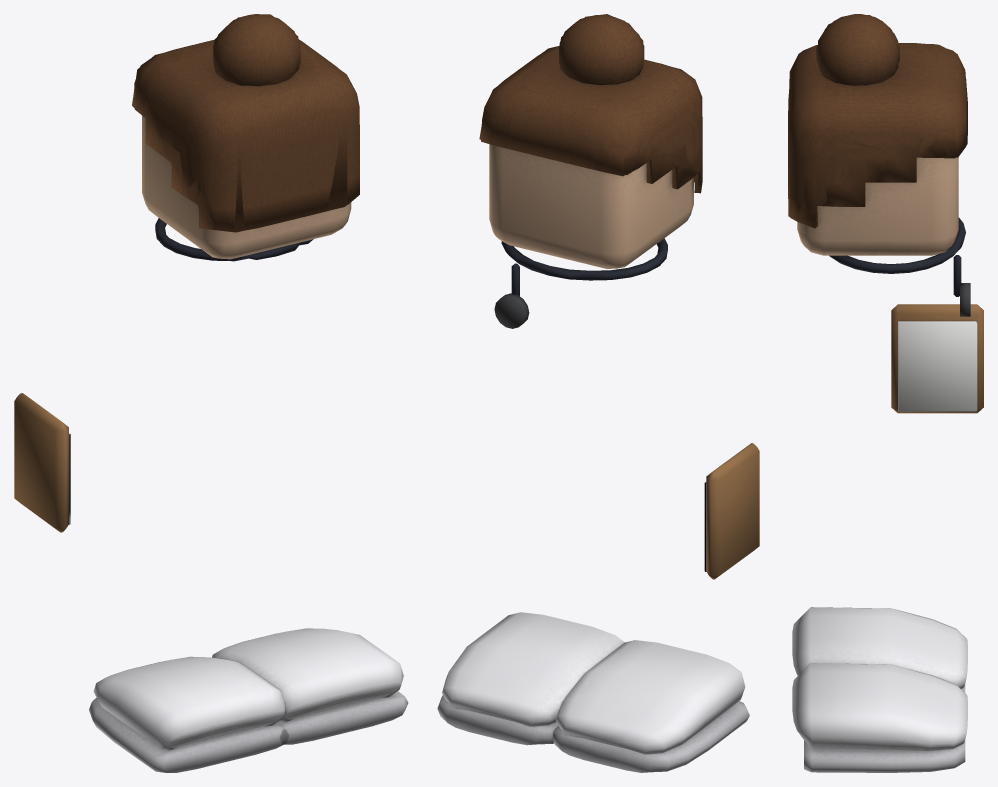
The model's file is Bloque_Oficio_Carmen.fbx.
3 views of the same model, side by side, from view 1: azimuth 30°, elevation 25°; view 2: azimuth 150°, elevation 25°; view 3: azimuth 270°, elevation 25° (orthographic). The views are drawn at different scales.
Visible parts, largest first — view 1: Pelo, ZuecoL, ZuecoR, PeloLOD, CabezaBloque, Portapapeles, Fonendo; view 2: Pelo, ZuecoL, CabezaBloque, ZuecoR, PeloLOD, Portapapeles, Fonendo; view 3: Pelo, ZuecoR, CabezaBloque, Portapapeles, ZuecoL, PeloLOD, Fonendo.
Boxes of the visible parts, x1,y1,x2,y2 form: Pelo: [134, 14, 359, 232]; ZuecoL: [89, 656, 288, 772]; ZuecoR: [212, 628, 408, 744]; PeloLOD: [132, 14, 359, 232]; CabezaBloque: [142, 115, 351, 259]; Portapapeles: [14, 393, 70, 532]; Fonendo: [155, 218, 313, 261]; Pelo: [481, 14, 702, 193]; ZuecoL: [552, 640, 749, 772]; CabezaBloque: [489, 144, 693, 268]; ZuecoR: [437, 612, 624, 745]; PeloLOD: [479, 14, 702, 189]; Portapapeles: [704, 443, 759, 579]; Fonendo: [494, 238, 667, 328]; Pelo: [788, 14, 967, 228]; ZuecoR: [792, 663, 967, 772]; CabezaBloque: [797, 157, 958, 255]; Portapapeles: [891, 304, 983, 413]; ZuecoL: [792, 607, 967, 692]; PeloLOD: [788, 14, 967, 221]; Fonendo: [829, 217, 970, 316].
Bounding box in the file's own units: 267 × 582 × 148.
